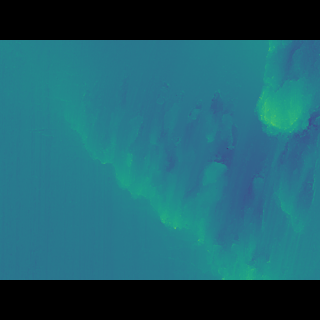Loch: (56, 78, 320, 252)
